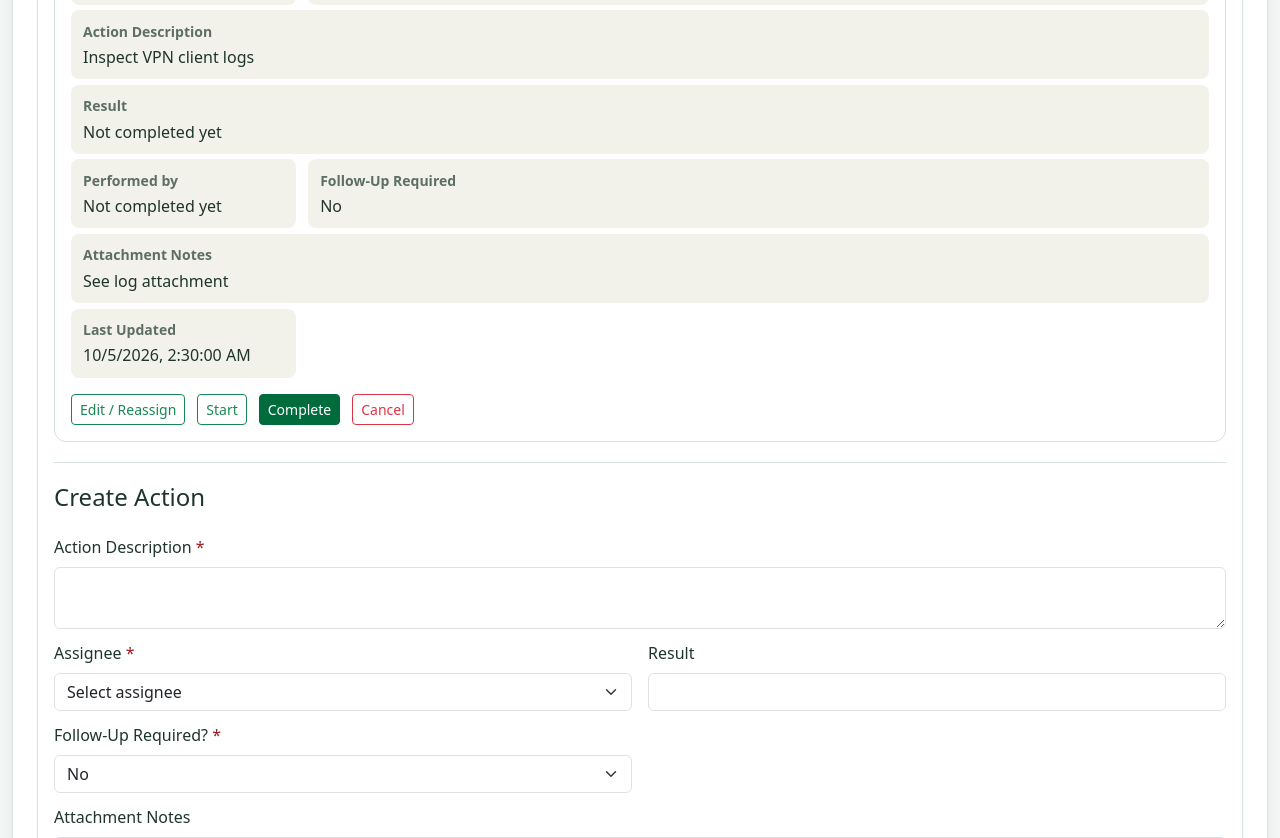
Lab 4 Actions Taken Ticket Detail UI › UI-01 immediately rerenders a successfully cancelled Action without mutation controls
(page scrolled)
expect the text "Inspect VPN client logs" is shown: met, box [83,46,254,68]
What coordinates should you click on to do the following:
click the button "Cancel"
I would click on:
 (383, 409)
Its box is [352,394,414,425].
(page scrolled)
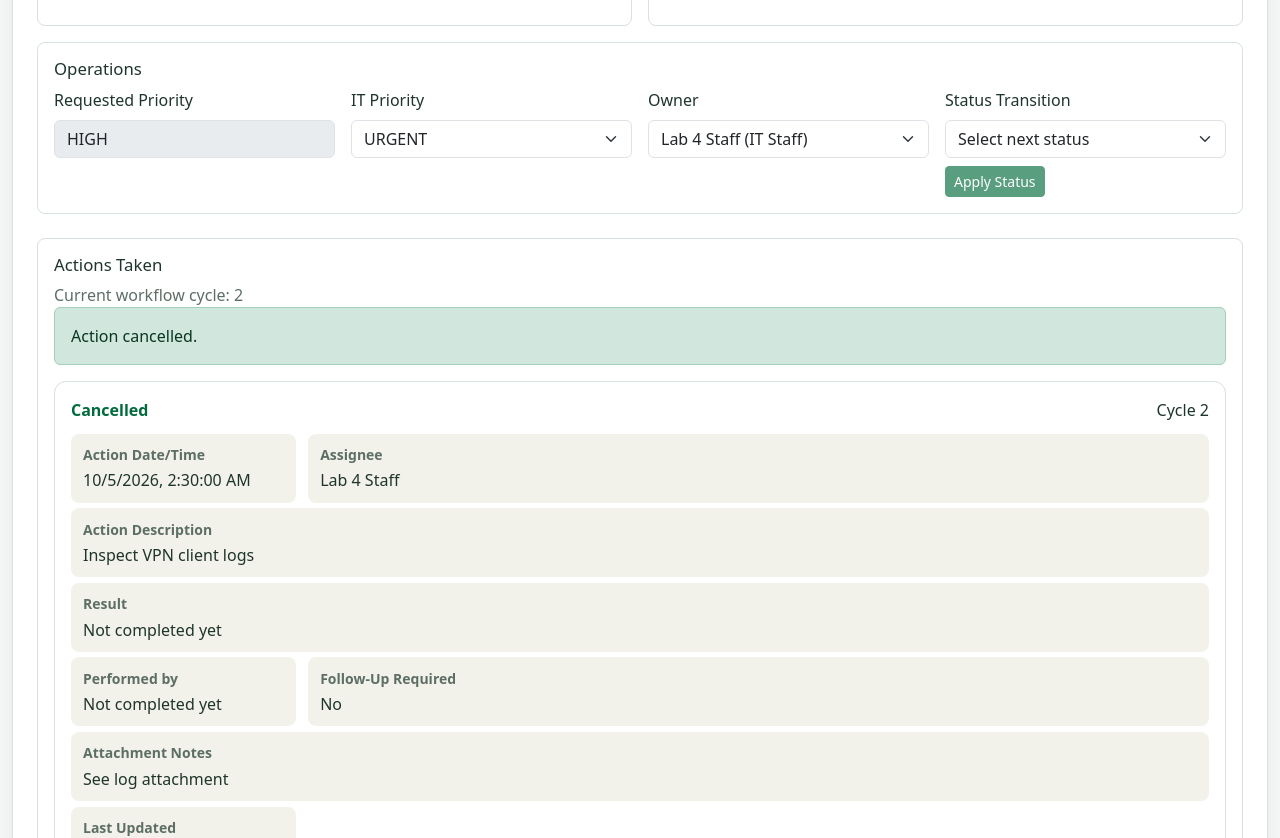
expect the text "Cancelled" is shown: met, box [71,398,148,422]
expect the button "Edit / Reassign" is gone: met
expect the button "Start" is gone: met
